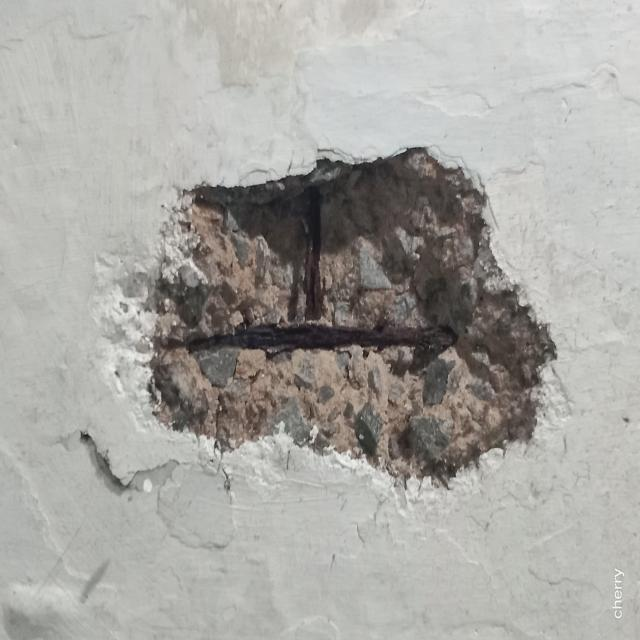crack: (173, 322, 456, 354)
spalling: (151, 148, 555, 481)
